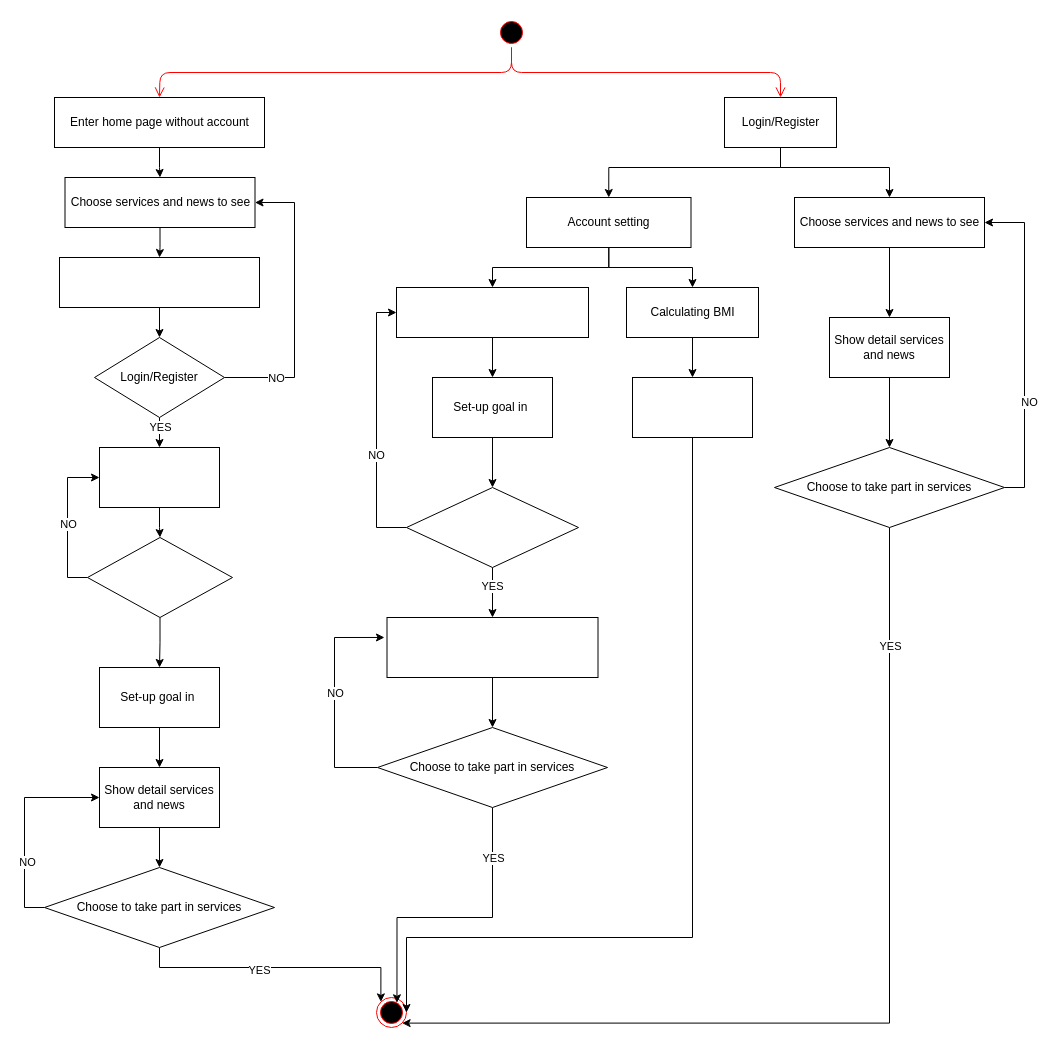
Some shapes in this 1055 by 1049 pixel diagram are drawn without their labels. The centre of each missing label's shape, as x and y in pixels:
Change/Set-up profile: the point at 492,312
Create/Modify profile: the point at 159,577
Required login to see detail: the point at 159,282
Save/Change: the point at 492,527
Set personal information: the point at 159,477
Show suggest services with set-up goal: the point at 492,647
Showing BMI: the point at 692,407
